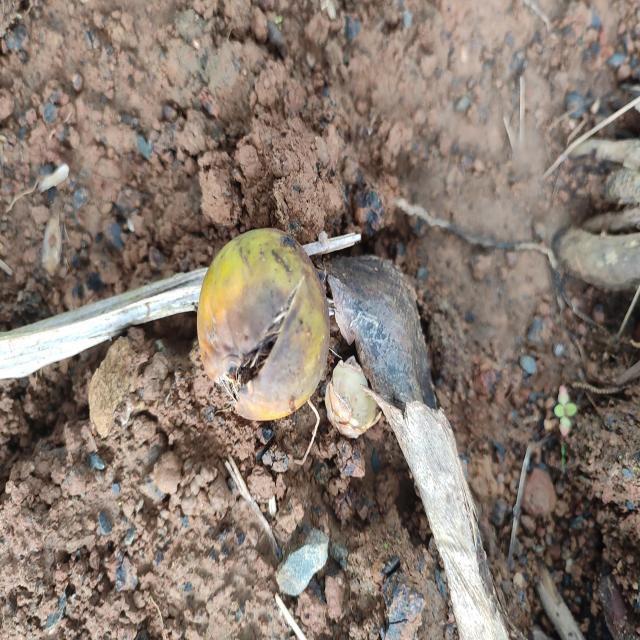damaged: (197, 228, 330, 420)
